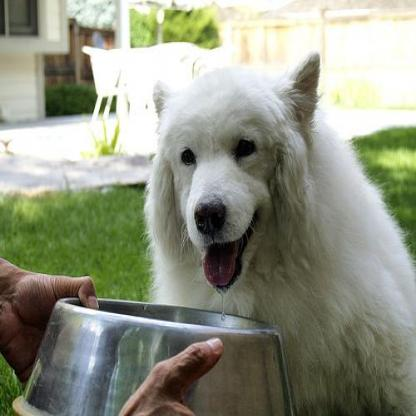Samoyed: (140, 51, 413, 413)
